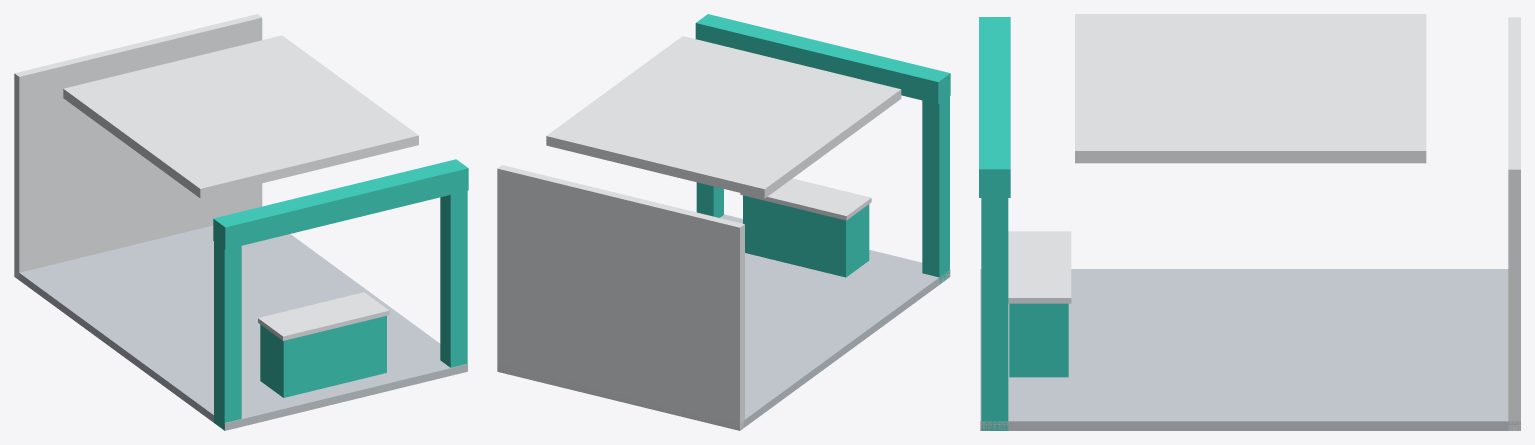
3 views of the same model, side by side, from view 1: azimuth 30°, elevation 25°; view 2: azimuth 150°, elevation 25°; view 3: azimuth 270°, elevation 25° (orthographic). The views are drawn at different scales.
Visible parts, largest first — view 1: Exhibition Booth Concept; view 2: Exhibition Booth Concept; view 3: Exhibition Booth Concept.
Part boxes in pixels (x1,y1,x2,y2): Exhibition Booth Concept: (14, 14, 468, 430); Exhibition Booth Concept: (497, 14, 950, 430); Exhibition Booth Concept: (979, 14, 1520, 430).
Bounding box in the file's own units: 4 × 3.34 × 6.02.
